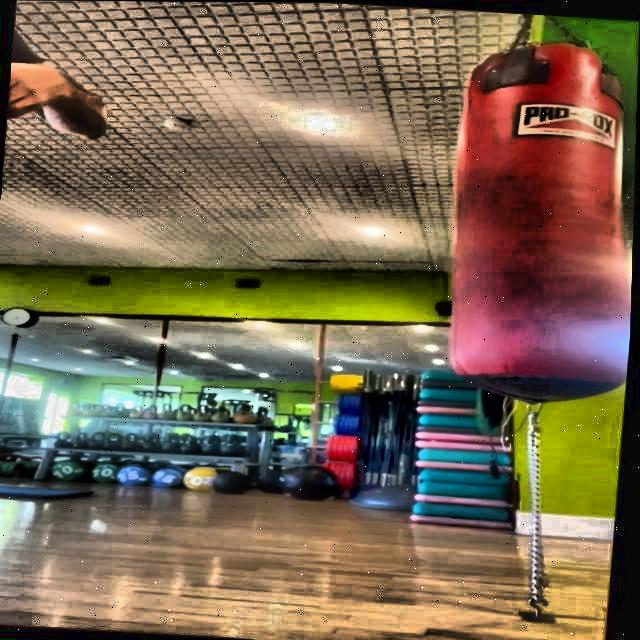boxing-bag: (443, 9, 640, 410)
